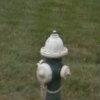Hydrant: (29, 21, 76, 100)
